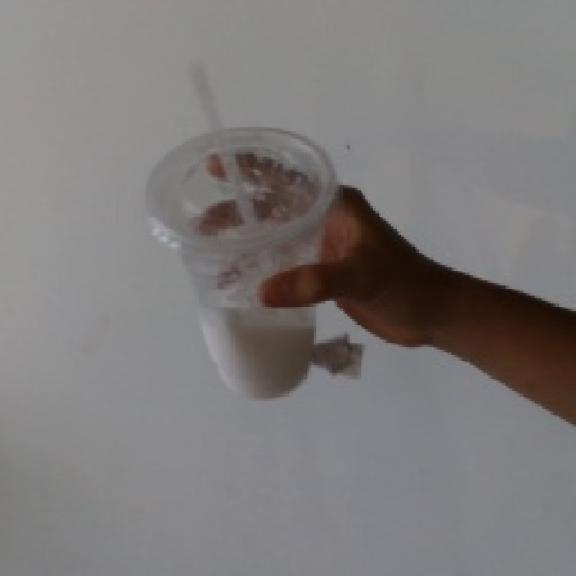Plastik: (139, 127, 344, 401)
